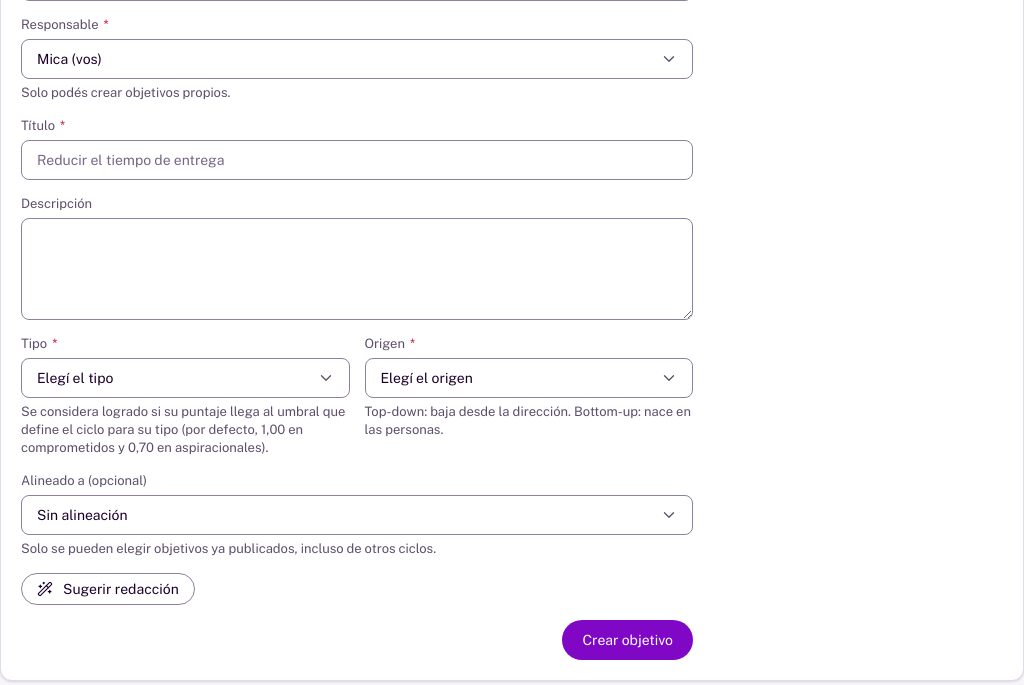
Test case: ObjectiveCreateForm + Sugerir redacción › manda lo que la persona lleva escrito, y solo al usar la sugerencia precarga (sin enviar el formulario)
The image size is (1024, 685).
Type "mejorar soporte" into the field labelled "Título*" at (357, 160), box x1=21 y1=140 x2=693 y2=180
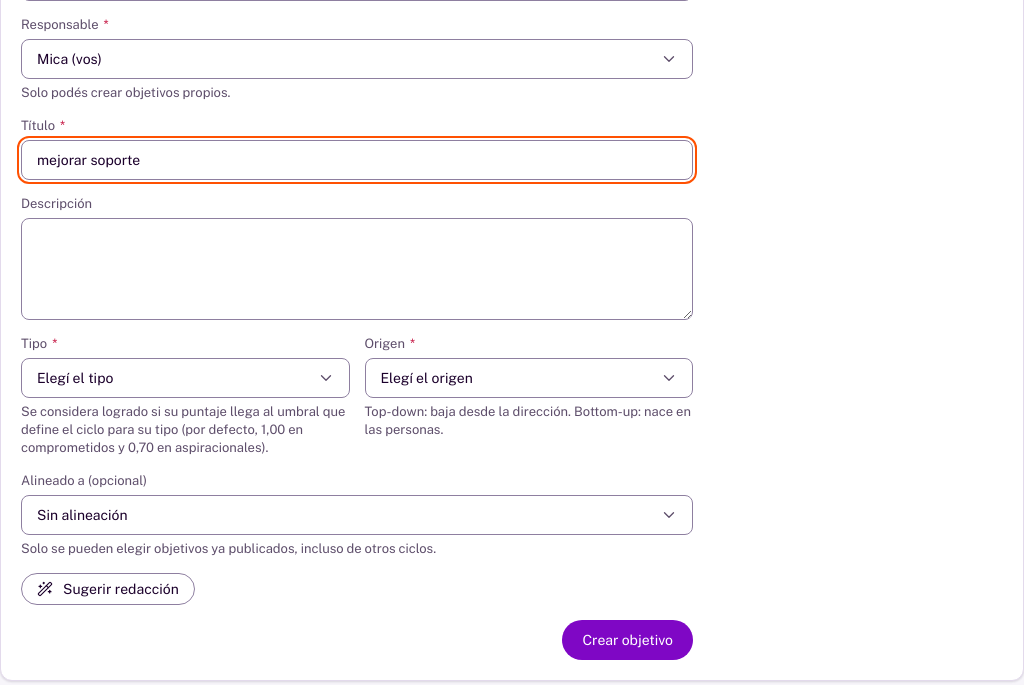
Type "borrador mío" into the text box labelled "Descripción" at (357, 269), box x1=21 y1=218 x2=693 y2=320
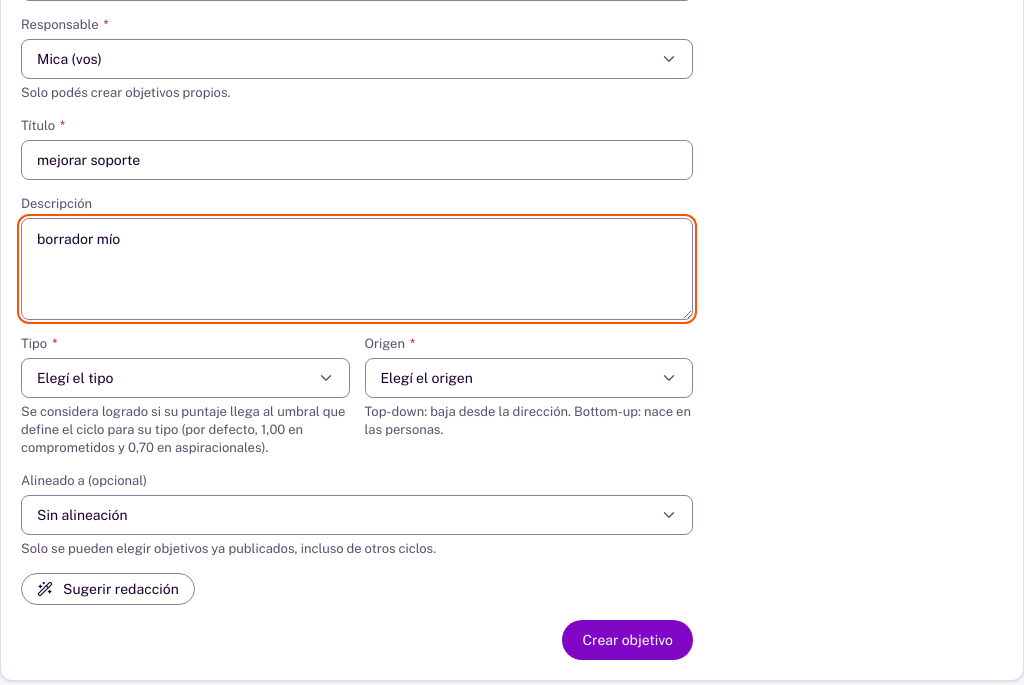
Click the button "Sugerir redacción" at (108, 589), box x1=21 y1=573 x2=195 y2=605
(page scrolled)
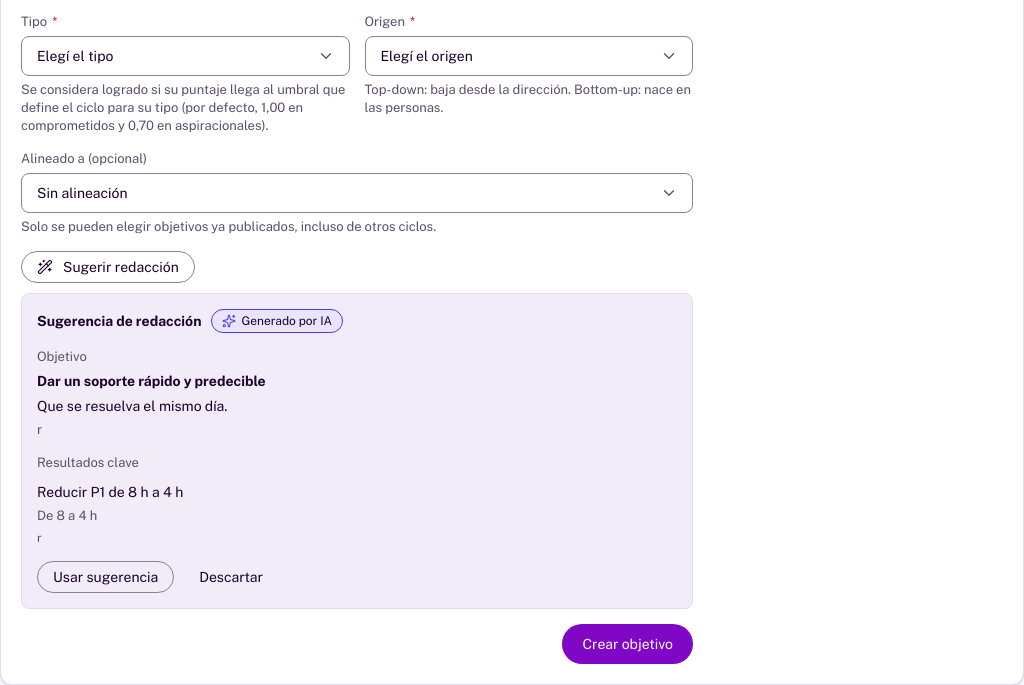
Now the element with test id "okr-suggestion" is shown, box x1=21 y1=293 x2=693 y2=609
Click the button "Usar sugerencia" at (106, 577), box x1=37 y1=561 x2=174 y2=593
(page scrolled)
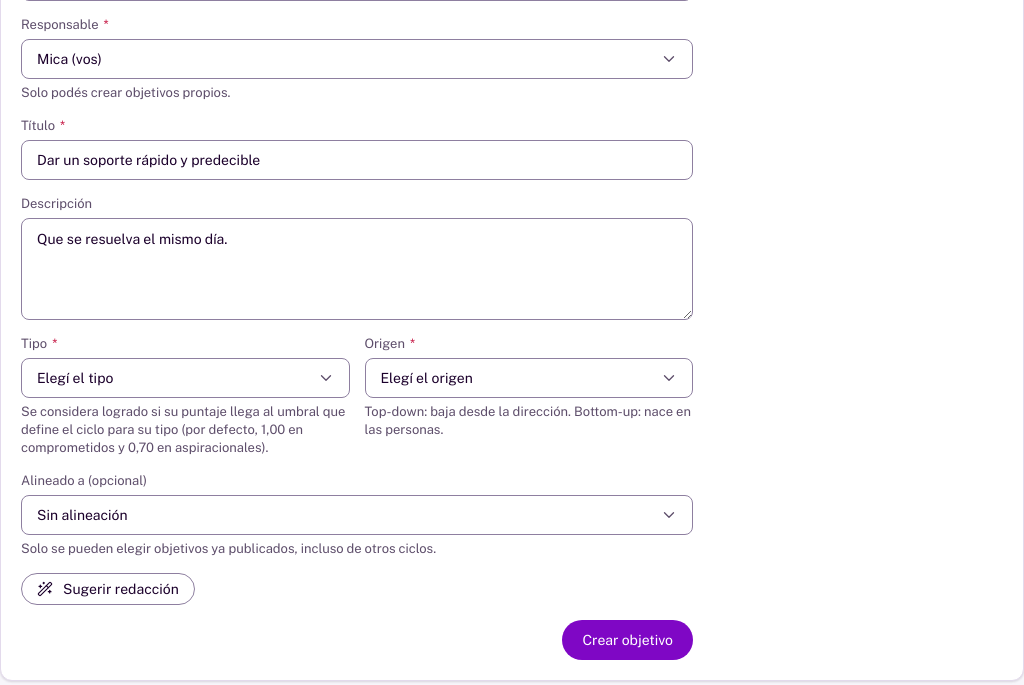
Now the field labelled "Título*" holds "Dar un soporte rápido y predecible", box x1=21 y1=140 x2=693 y2=180
Now the text box labelled "Descripción" holds "Que se resuelva el mismo día.", box x1=21 y1=218 x2=693 y2=320
Now the element with test id "okr-suggestion" is gone
